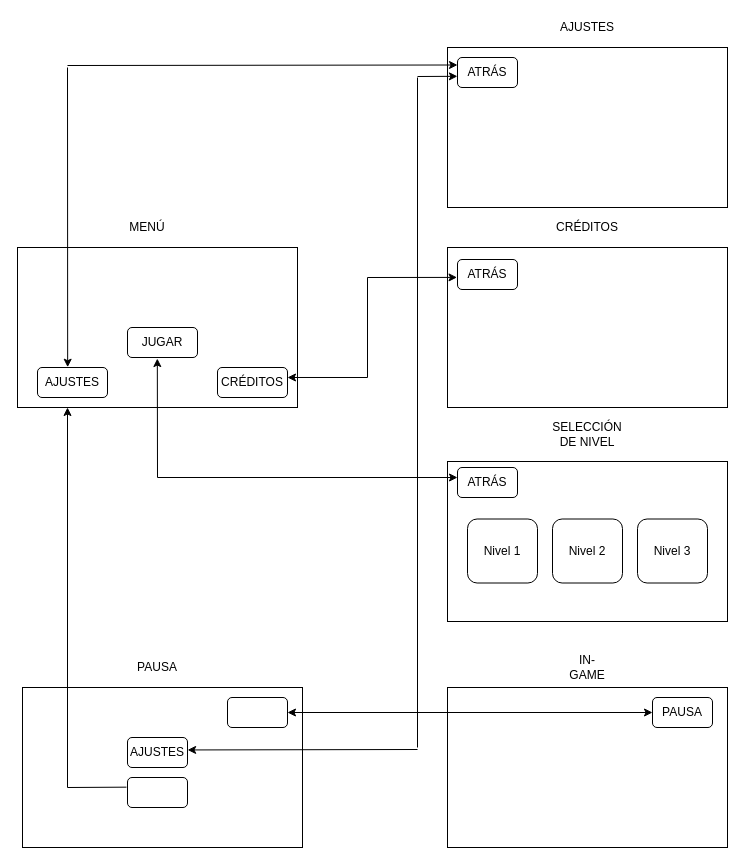
The diagram is 745 pixels wide and 865 high, and some of its shapes have lost their labels. Here are the shapes that lost their labels. From the top down, the box of each, then its label:
(226, 696, 288, 728): VOLVER
(126, 776, 188, 808): SALIR
